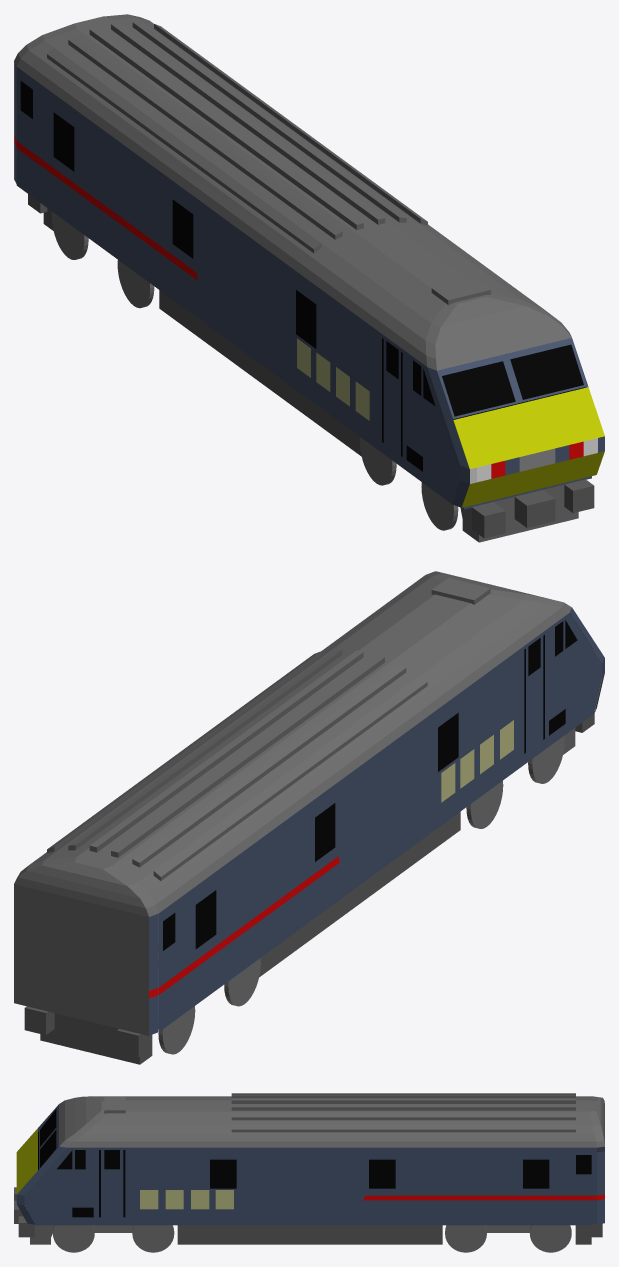
Rendered from br-mk4-dvt-gner.dae.
3 views of the same model, one above another, from view 1: azimuth 30°, elevation 25°; view 2: azimuth 150°, elevation 25°; view 3: azimuth 270°, elevation 25° (orthographic). The views are drawn at different scales.
Visible parts, largest first — view 1: Plane_019, Plane_064, Plane_001, Plane_027, Plane_014, Plane_052, Cube_007, Cube_003, Cube_033, Cube_009, Cube_004, Plane_068 (+23 smaller); view 2: Plane_019, Plane_064, Plane_102, Plane_027, Plane_001, Cube_007, Cube_003, Cube_033, Cube_009, Cube_004, Plane_068, Cube_010 (+18 smaller); view 3: Plane_019, Plane_020, Plane_096, Plane_001, Cube_033, Plane_023, Plane_099, Cube_008, Plane_003, Cube_010, Plane_007, Plane (+36 smaller).
Boxes of the visible parts, x1,y1,x2,y2 form: Plane_019: [14, 14, 466, 306]; Plane_064: [16, 67, 374, 395]; Plane_001: [344, 237, 571, 370]; Plane_027: [16, 148, 402, 467]; Plane_014: [453, 387, 604, 468]; Plane_052: [442, 344, 585, 419]; Cube_007: [47, 48, 321, 253]; Cube_003: [68, 36, 342, 239]; Cube_033: [159, 290, 361, 456]; Cube_009: [111, 22, 385, 224]; Cube_004: [89, 28, 363, 229]; Plane_068: [16, 134, 459, 464]; Plane_019: [14, 633, 486, 916]; Plane_064: [158, 673, 516, 979]; Plane_102: [14, 884, 148, 1035]; Plane_027: [158, 711, 544, 1031]; Plane_001: [346, 571, 571, 672]; Cube_007: [153, 675, 427, 880]; Cube_003: [132, 663, 406, 867]; Cube_033: [259, 811, 460, 977]; Cube_009: [89, 650, 363, 852]; Cube_004: [111, 655, 384, 857]; Plane_068: [158, 658, 601, 987]; Cube_010: [68, 650, 342, 850]; Plane_019: [173, 1096, 604, 1147]; Plane_020: [136, 1152, 495, 1190]; Plane_096: [99, 1195, 453, 1224]; Plane_001: [59, 1096, 204, 1147]; Cube_033: [177, 1225, 442, 1244]; Plane_023: [433, 1200, 596, 1224]; Plane_099: [463, 1152, 596, 1190]; Cube_008: [231, 1124, 575, 1132]; Plane_003: [25, 1190, 596, 1195]; Cube_010: [231, 1113, 575, 1120]; Plane_007: [129, 1195, 596, 1200]; Plane: [29, 1171, 151, 1190].
Bounding box in the file's own units: 2.02 × 11.15 × 2.74.
